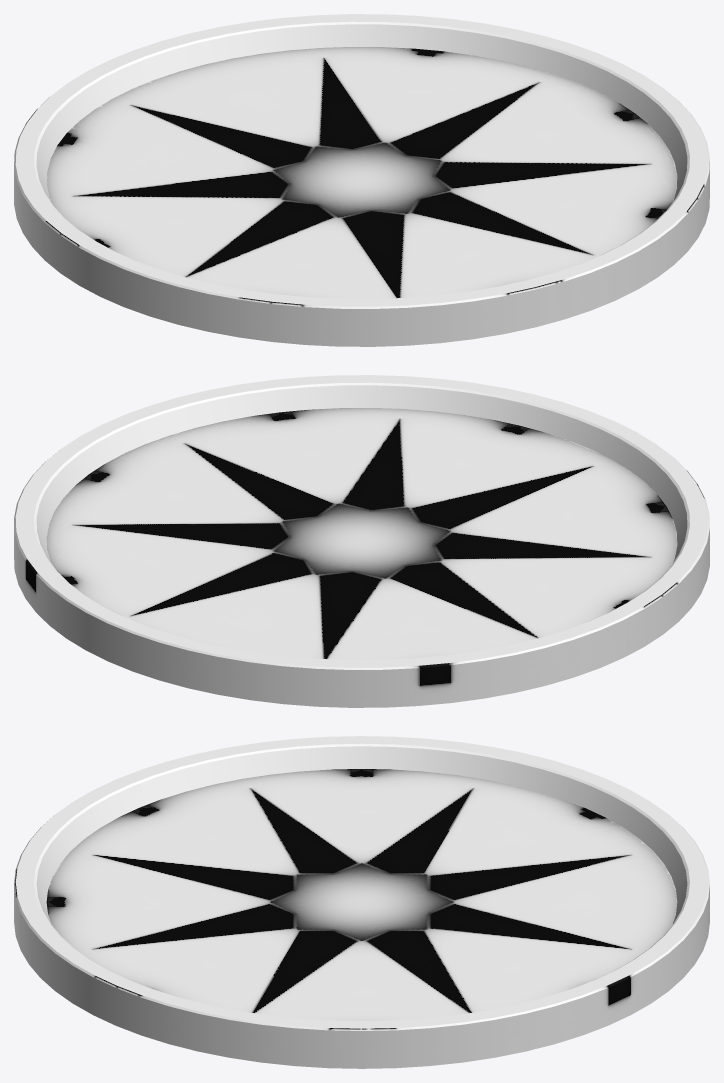
File: QS_Floor.fbx
3 renders of one model, top to bottom at view 1: azimuth 30°, elevation 25°; view 2: azimuth 150°, elevation 25°; view 3: azimuth 270°, elevation 25°, orthographic.
Visible parts, largest first — view 1: Floor; view 2: Floor; view 3: Floor.
Boxes of the visible parts, left/top/right/bottom form: Floor: left=14, top=14, right=709, bottom=346; Floor: left=14, top=375, right=709, bottom=707; Floor: left=14, top=736, right=709, bottom=1068.
Size of the model in its own units: 800 by 50 by 800.
Materials: 1 (1 with a texture image).
